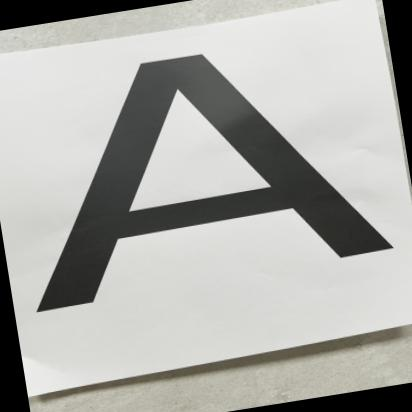seat: (0, 21, 412, 361)
